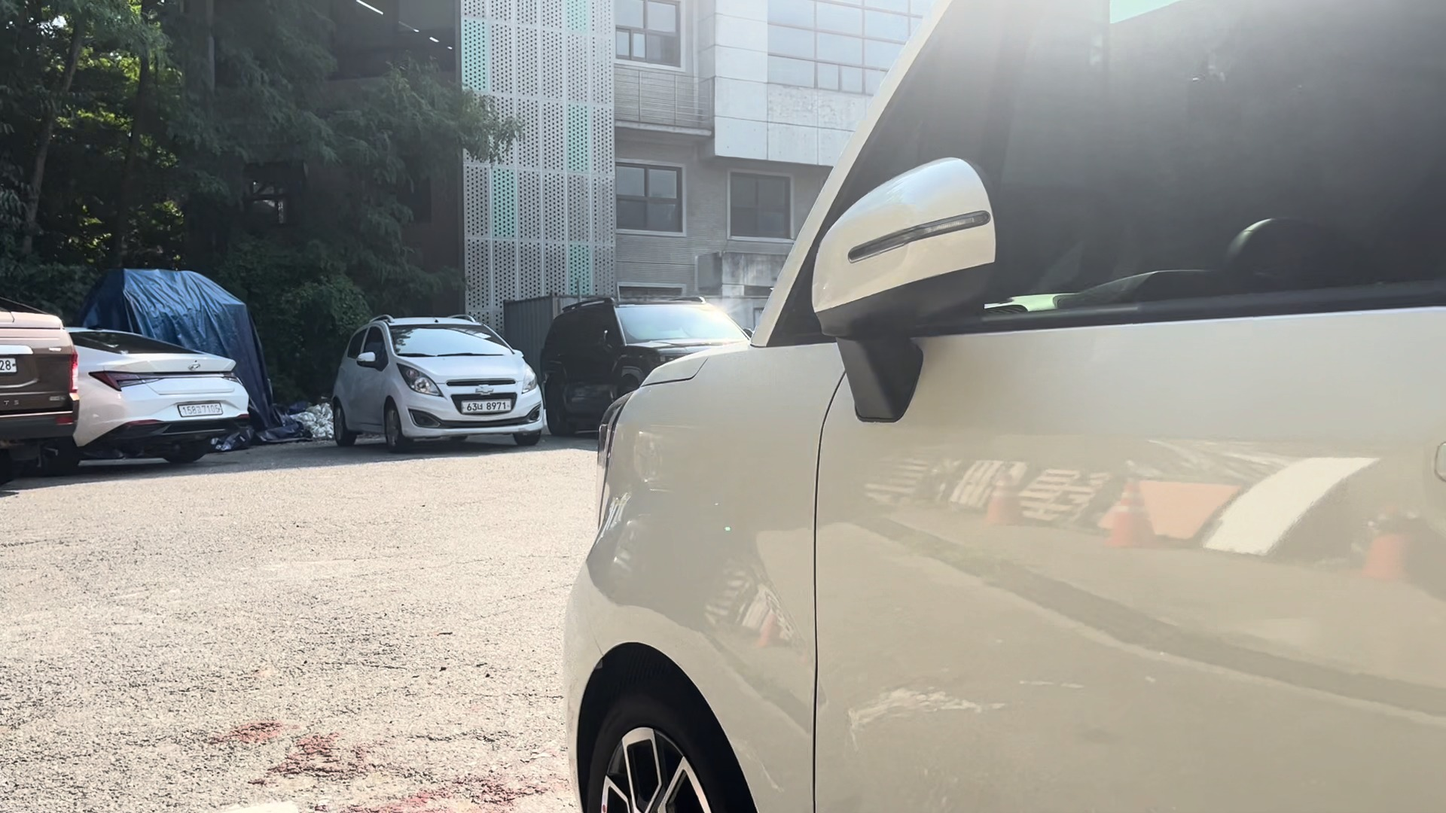side_mirror: (815, 159, 993, 328)
